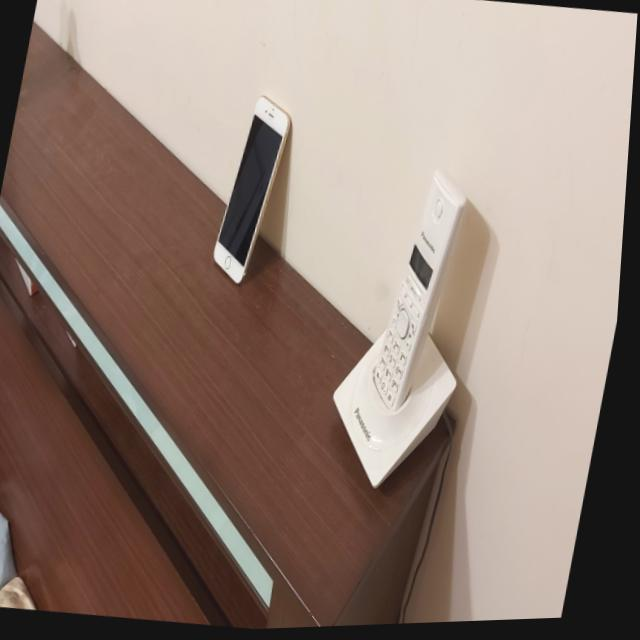Smartphone: (217, 96, 292, 284)
